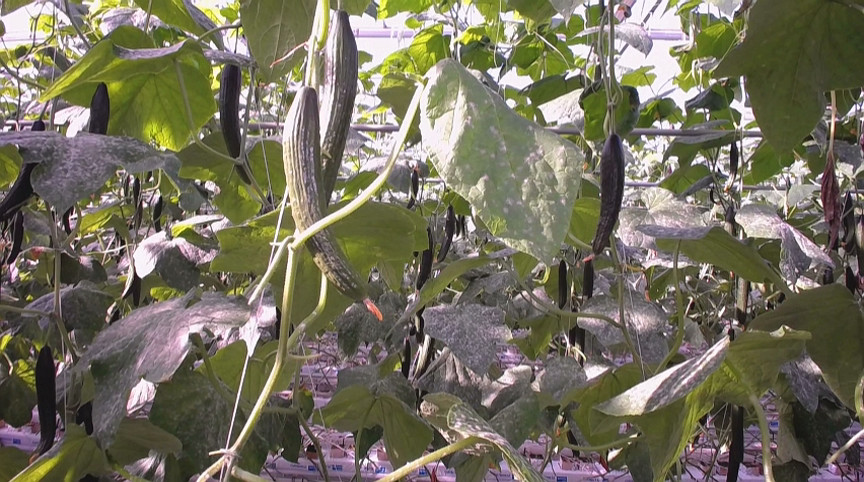cucumber: (281, 86, 367, 303), (320, 10, 358, 201), (2, 119, 46, 221), (591, 135, 628, 255), (219, 64, 251, 182), (36, 347, 57, 454), (89, 81, 112, 135), (557, 259, 567, 311)
